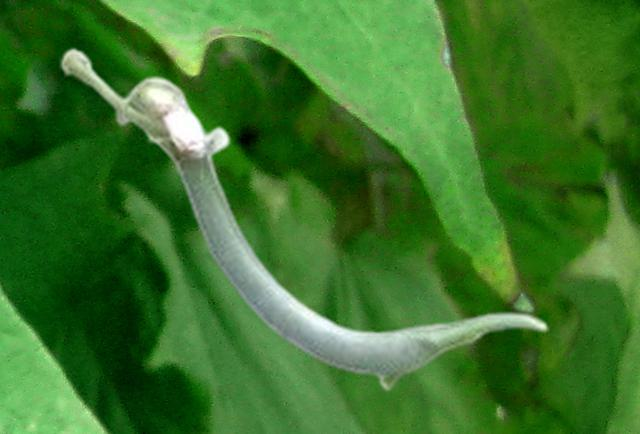french_bean: (59, 46, 548, 391)
